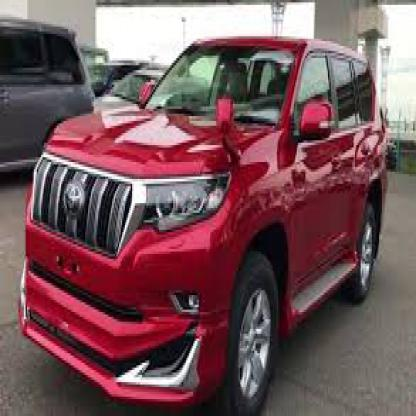jeep: (20, 34, 389, 413), (1, 19, 94, 172)
